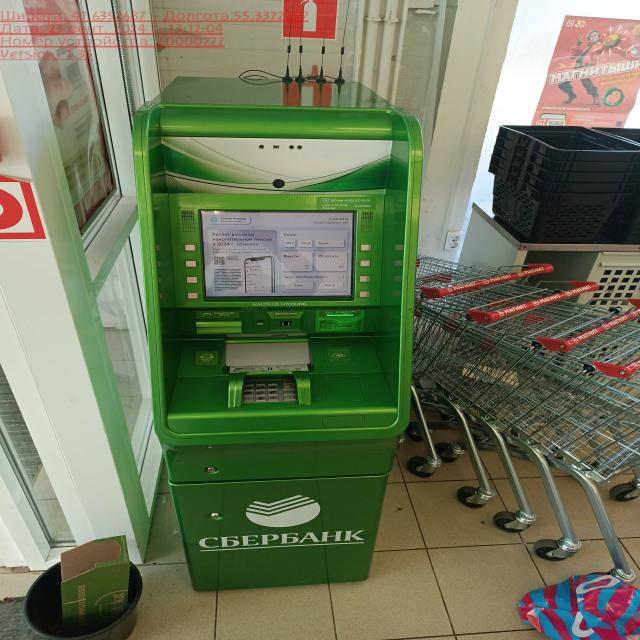bank: (130, 75, 419, 594)
